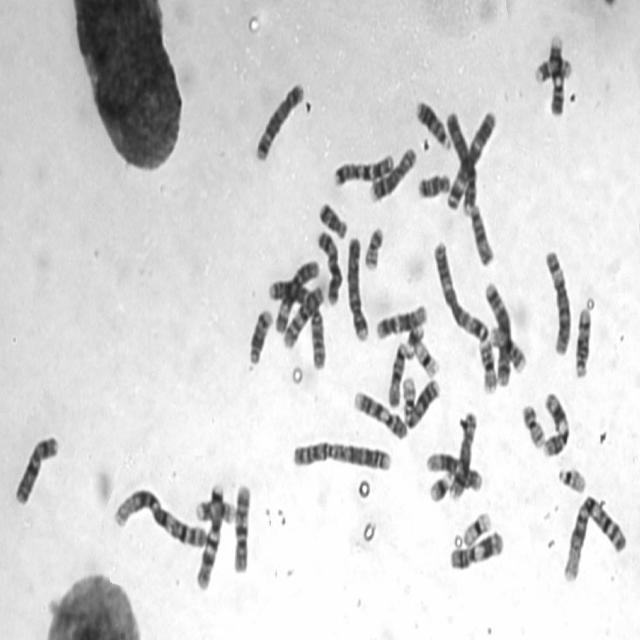A1: (112, 481, 206, 549), (562, 493, 627, 582)
A2: (268, 276, 326, 371), (292, 435, 392, 474)
A3: (433, 240, 489, 342), (447, 108, 497, 210)
B4: (444, 112, 476, 216), (346, 237, 370, 342)
B5: (255, 82, 306, 162), (483, 280, 512, 388)
C10: (283, 283, 323, 350), (233, 483, 252, 575)
C11: (450, 530, 504, 571), (544, 392, 570, 458)
C12: (424, 452, 482, 494), (376, 304, 427, 340)
C6: (275, 259, 319, 336), (543, 250, 571, 357)
C7: (194, 480, 225, 590), (333, 152, 393, 189)
C8: (370, 143, 417, 203), (449, 409, 478, 502)
C9: (354, 389, 407, 439), (549, 31, 565, 117)
D13: (414, 99, 451, 150), (407, 380, 439, 430)
D14: (248, 309, 274, 365), (574, 308, 591, 379)
D15: (470, 205, 495, 264), (388, 341, 406, 408)
E16: (490, 326, 528, 374), (478, 337, 498, 396)
E17: (196, 493, 239, 527), (534, 56, 572, 86)
E18: (319, 199, 347, 242), (418, 172, 450, 200)
F19: (413, 339, 440, 380), (462, 511, 491, 548)
F20: (522, 405, 545, 450), (364, 225, 384, 273)
G21: (405, 322, 426, 360), (429, 471, 452, 503)
G22: (557, 467, 587, 497), (400, 376, 416, 418)
X: (12, 433, 62, 509), (316, 228, 343, 307)
